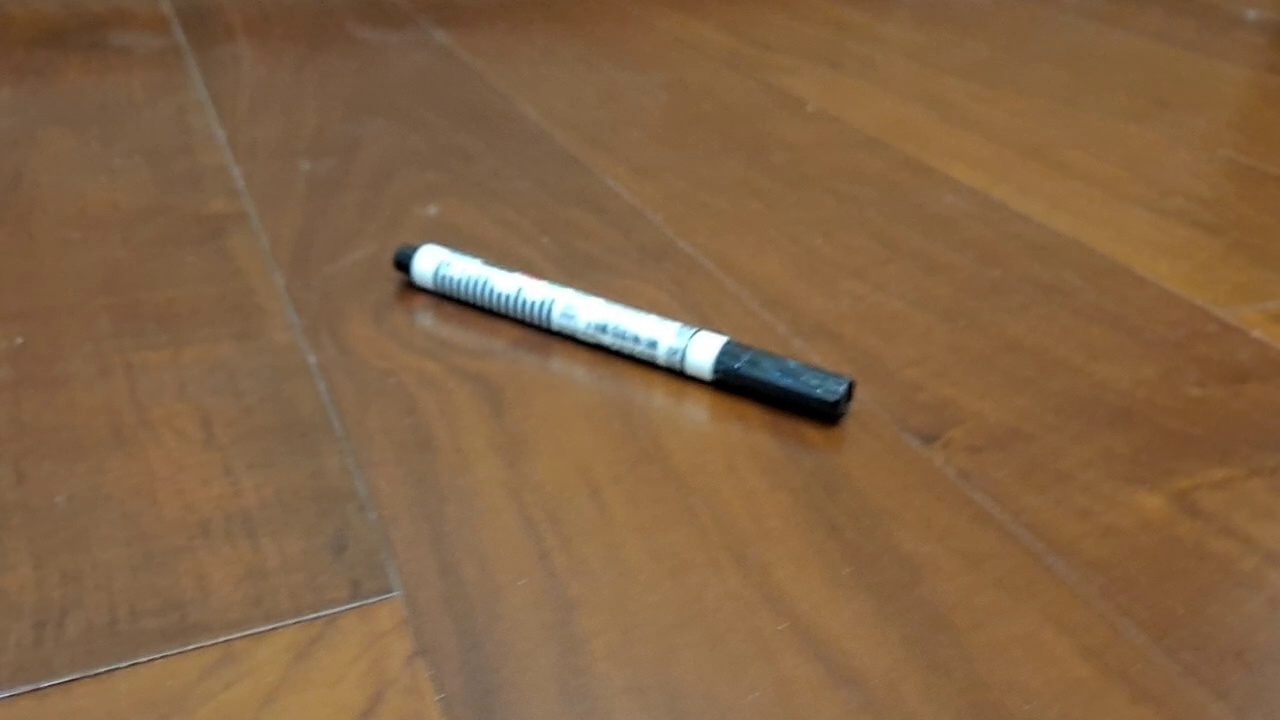pen: (393, 239, 857, 427)
